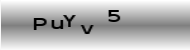5: (107, 9, 121, 22)
P: (33, 16, 47, 30)
Y: (62, 13, 77, 28)
u: (50, 18, 64, 30)
v: (80, 24, 95, 35)
